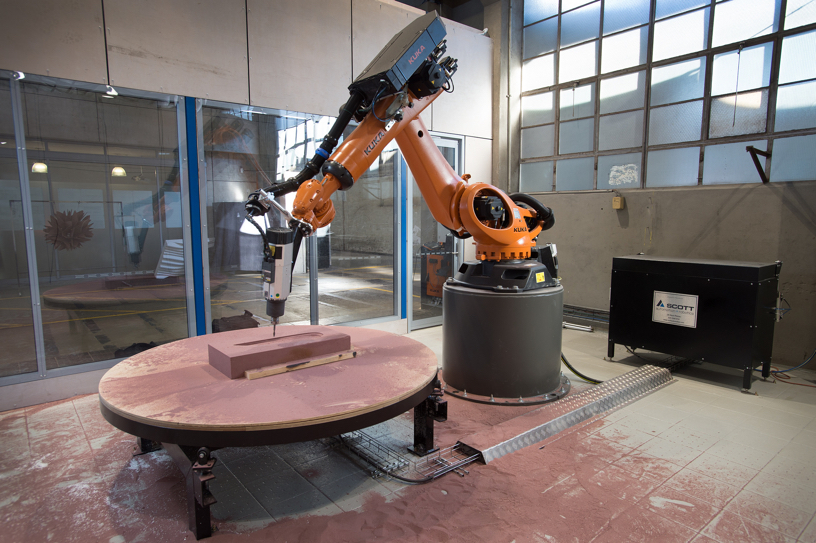robot: (246, 9, 564, 341)
